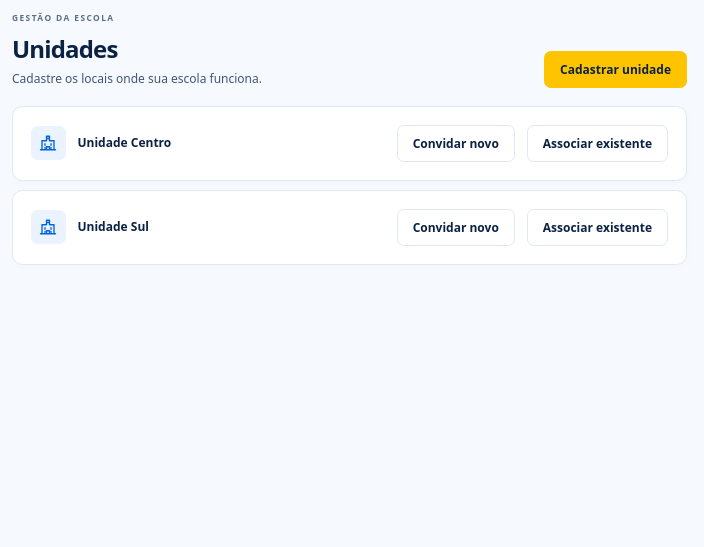
Test: fluxo de unidades › permite convidar depois para mais de uma unidade e distingue entrega pendente
Click the button "Convidar novo" in the row of "Unidade Centro".
click(456, 143)  # box [397, 125, 515, 162]
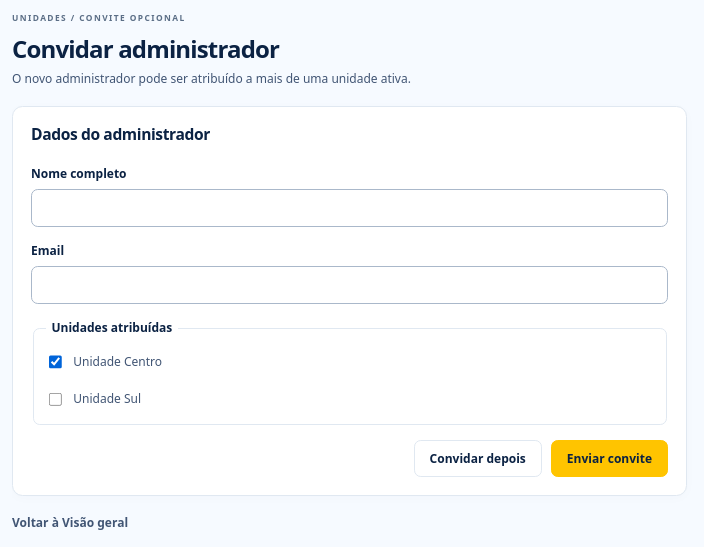
Check: the checkbox labelled "Unidade Centro" is checked, box [48, 355, 62, 369]
Check: the checkbox labelled "Unidade Sul" is not checked
Click the checkbox labelled "Unidade Sul".
click(55, 399)  # box [48, 393, 62, 406]
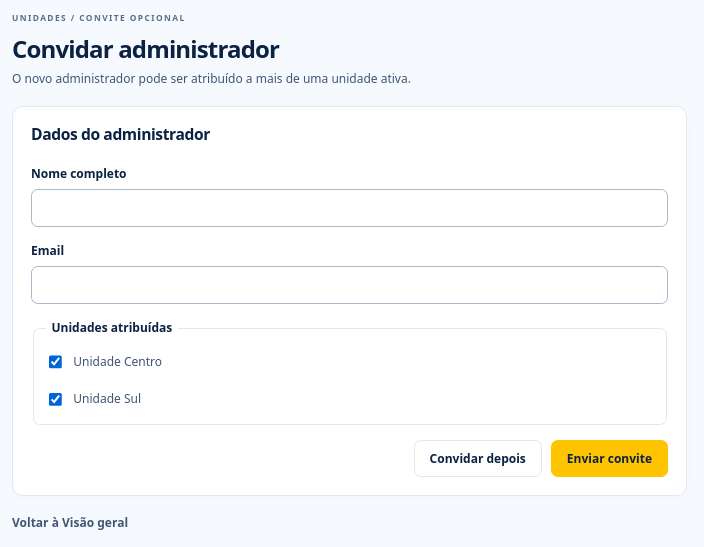
Type "Ana Costa" into the field labelled "Nome completo".
click(350, 208); type("Ana Costa")  # box [31, 189, 668, 227]
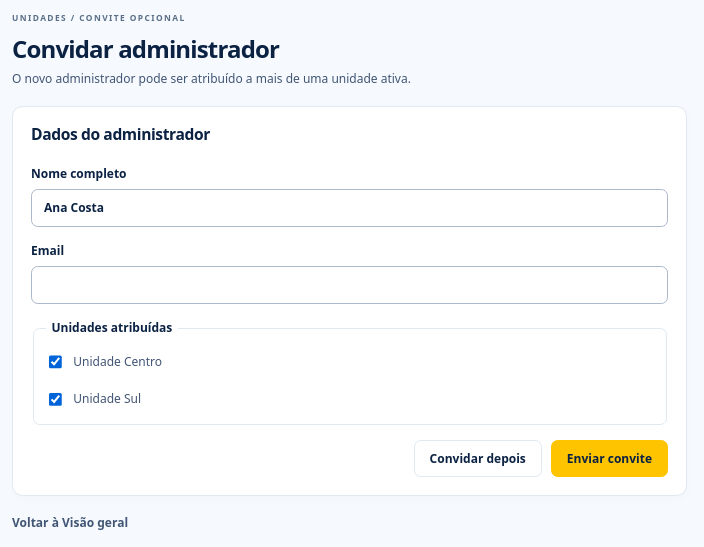
Type "ana@escola.test" into the field labelled "Email".
click(350, 285); type("ana@escola.test")  # box [31, 266, 668, 304]
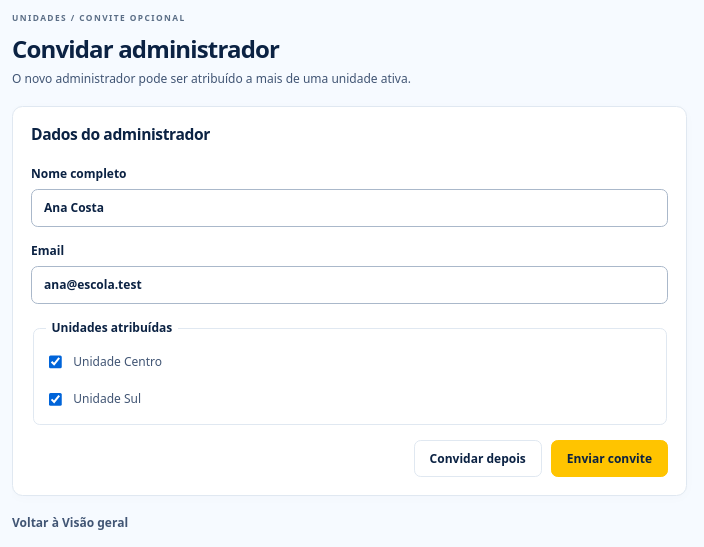
Click the button "Enviar convite".
click(609, 459)  # box [551, 440, 668, 477]
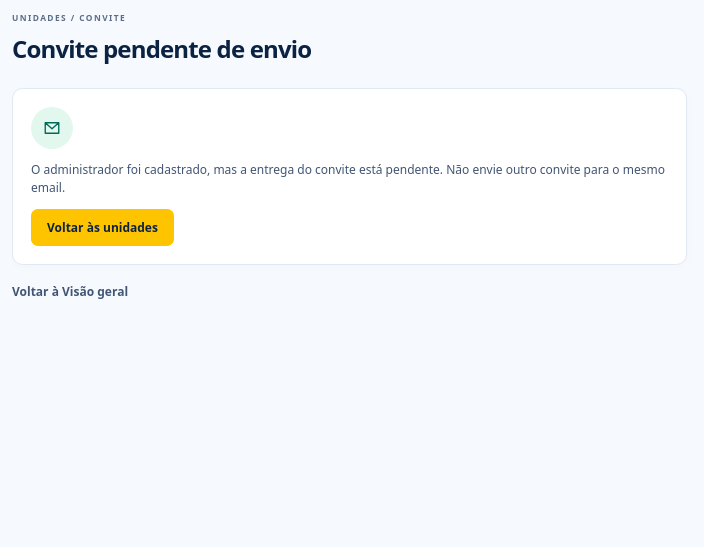
Check: the heading "Convite pendente de envio" is shown, box [12, 32, 311, 65]
